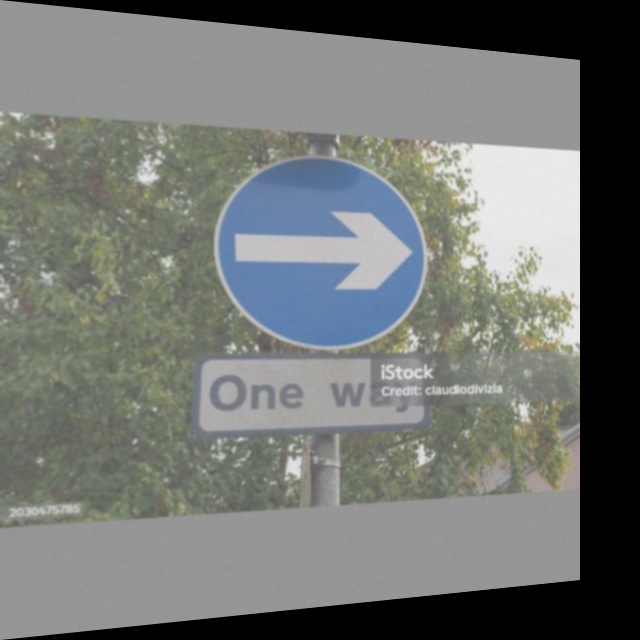Compulsory_Turn_Right: (214, 147, 430, 352)
